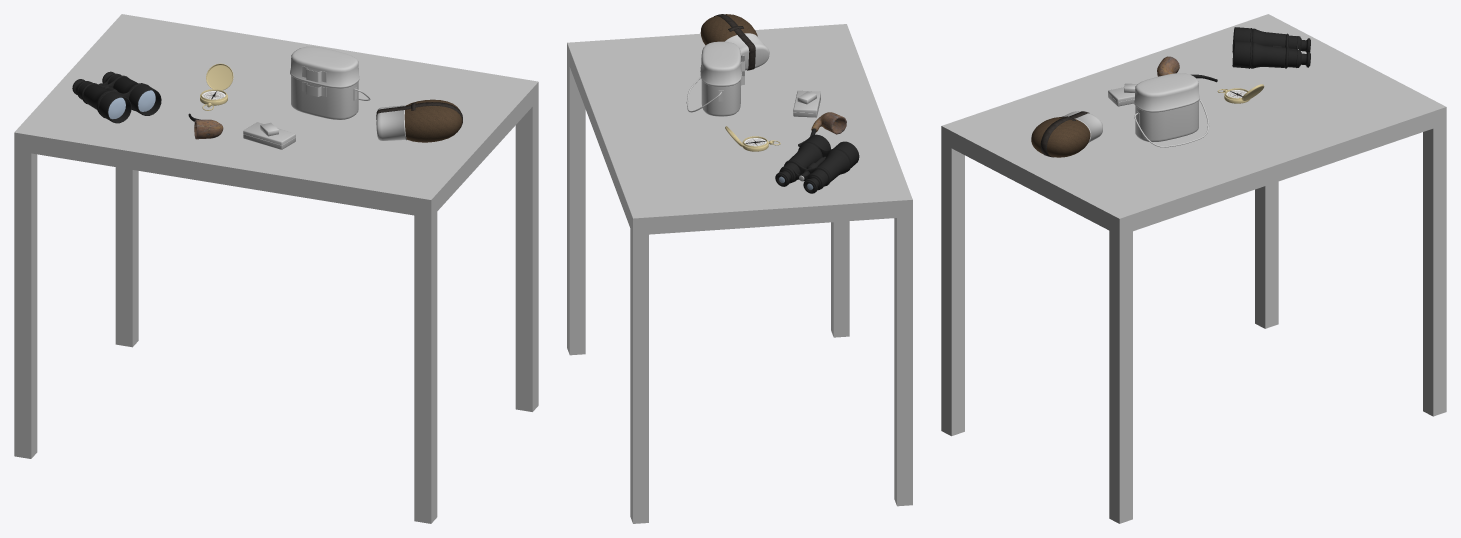
The model's file is table stuff.FBX.
3 views of the same model, side by side, from view 1: azimuth 30°, elevation 25°; view 2: azimuth 150°, elevation 25°; view 3: azimuth 270°, elevation 25° (orthographic). The views are drawn at different scales.
Parts seen in each view (by area): view 1: table, food box thing, canteen001, Cylinder001, compass, tobacco box; view 2: table, food box thing, Cylinder001, canteen001, Line002, tobacco box, compass; view 3: table, food box thing, Cylinder001, canteen001.
Part boxes in pixels (box(x1,y1,x2,y2)): table: box(14, 14, 538, 523); food box thing: box(290, 46, 370, 119); canteen001: box(376, 99, 462, 142); Cylinder001: box(72, 71, 161, 123); compass: box(200, 63, 233, 110); tobacco box: box(243, 122, 295, 149); table: box(567, 24, 912, 523); food box thing: box(686, 41, 745, 116); Cylinder001: box(775, 134, 859, 193); canteen001: box(700, 14, 769, 70); Line002: box(798, 112, 846, 146); tobacco box: box(793, 90, 820, 117); compass: box(725, 126, 780, 151); table: box(941, 14, 1446, 523); food box thing: box(1134, 73, 1209, 147); Cylinder001: box(1232, 27, 1310, 68); canteen001: box(1031, 111, 1102, 157).
Bounding box in the file's own units: 103 × 82.9 × 107.
